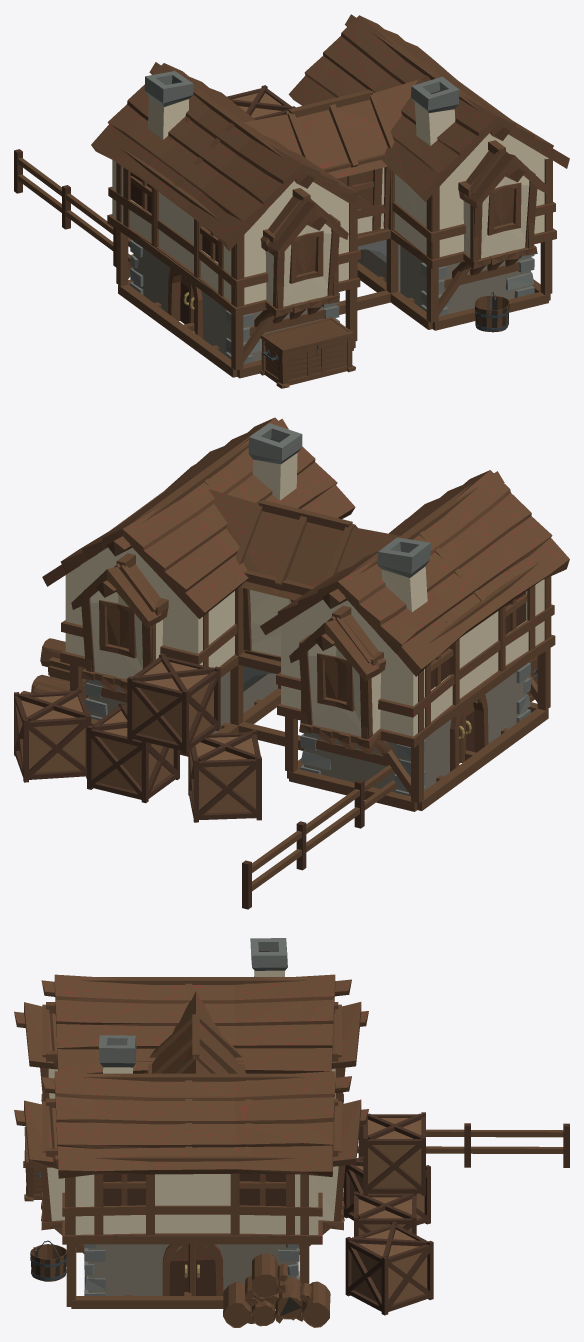
Rendered from Warehouse_Construction_RED.glb.
The picture shows the model from 3 angles, top to bottom: view 1: azimuth 30°, elevation 25°; view 2: azimuth 150°, elevation 25°; view 3: azimuth 270°, elevation 25°; orthographic projection. The views are drawn at different scales.
Parts seen in each view (by area): view 1: Stage_04_Roofed_Building, Stage_05_Complete_Building, Stage_03_RoofFrame_Building, Stage_02_FirstFloor_Building, Stage_01_Foundation_Building, Prop_SuppliesCabinet, Prop_RearFence, Prop_Crate_1, Prop_WaterBucket; view 2: Stage_04_Roofed_Building, Stage_05_Complete_Building, Stage_03_RoofFrame_Building, Prop_Crate_1, Prop_Crate_4, Prop_Crate_2, Prop_Crate_3, Stage_01_Foundation_Building, Stage_02_FirstFloor_Building, Prop_RearFence, Prop_StoredTimber; view 3: Stage_04_Roofed_Building, Stage_03_RoofFrame_Building, Stage_05_Complete_Building, Prop_Crate_4, Prop_StoredTimber, Prop_Crate_1, Prop_RearFence, Stage_02_FirstFloor_Building, Prop_Crate_3, Stage_01_Foundation_Building, Prop_Crate_2, Prop_WaterBucket (+1 smaller).
Boxes of the visible parts, x1,y1,x2,y2 form: Stage_04_Roofed_Building: (91,15,569,258); Stage_05_Complete_Building: (112,71,548,364); Stage_03_RoofFrame_Building: (107,14,556,338); Stage_02_FirstFloor_Building: (116,229,552,370); Stage_01_Foundation_Building: (118,262,550,378); Prop_SuppliesCabinet: (259,317,355,388); Prop_RearFence: (14,149,132,267); Prop_Crate_1: (227,85,295,119); Prop_WaterBucket: (474,291,509,332); Stage_04_Roofed_Building: (42,417,569,681); Stage_05_Complete_Building: (65,423,544,796); Stage_03_RoofFrame_Building: (60,418,555,771); Prop_Crate_1: (127,653,220,754); Prop_Crate_4: (14,688,91,782); Prop_Crate_2: (188,729,261,822); Prop_Crate_3: (87,702,179,803); Stage_01_Foundation_Building: (91,688,548,811); Stage_02_FirstFloor_Building: (70,648,550,803); Prop_RearFence: (242,765,396,909); Prop_StoredTimber: (21,638,88,700); Stage_04_Roofed_Building: (24,974,361,1178); Stage_03_RoofFrame_Building: (14,977,368,1295); Stage_05_Complete_Building: (47,938,338,1295); Prop_Crate_4: (345,1221,433,1315); Prop_StoredTimber: (223,1253,330,1327); Prop_Crate_1: (363,1112,425,1195); Prop_RearFence: (357,1123,569,1167); Stage_02_FirstFloor_Building: (67,1235,308,1299); Prop_Crate_3: (354,1191,416,1236); Stage_01_Foundation_Building: (66,1245,309,1308); Prop_Crate_2: (343,1156,430,1225); Prop_WaterBucket: (30,1240,66,1281).
Bounding box in the file's own units: 9.91 × 5.59 × 12.64.
Materials: 1 (1 with a texture image).
